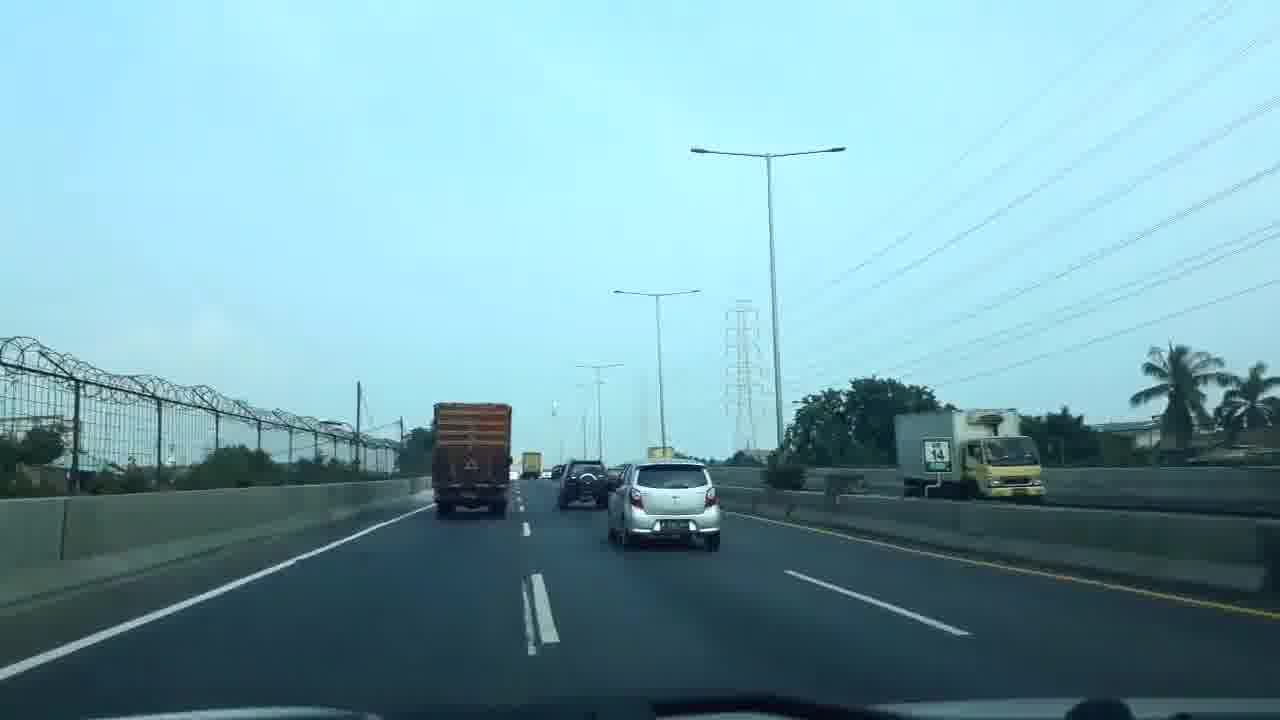plate_positive: (660, 520, 689, 531)
